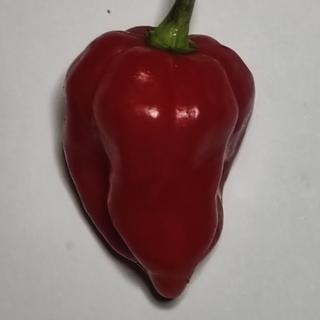Grade-A: (50, 18, 259, 303)
